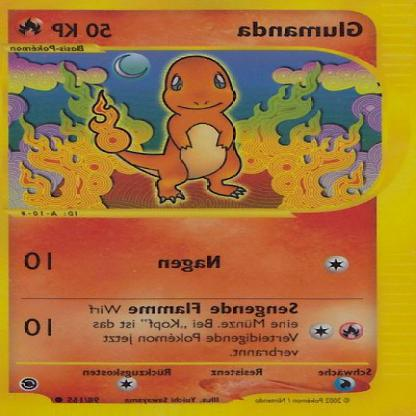Charmander: (97, 53, 250, 207)
